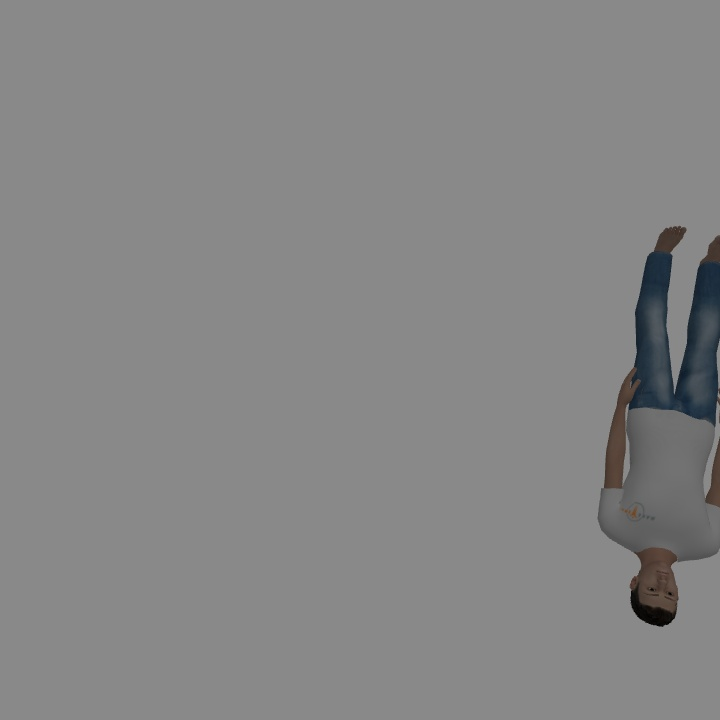victim: (597, 231, 717, 620)
